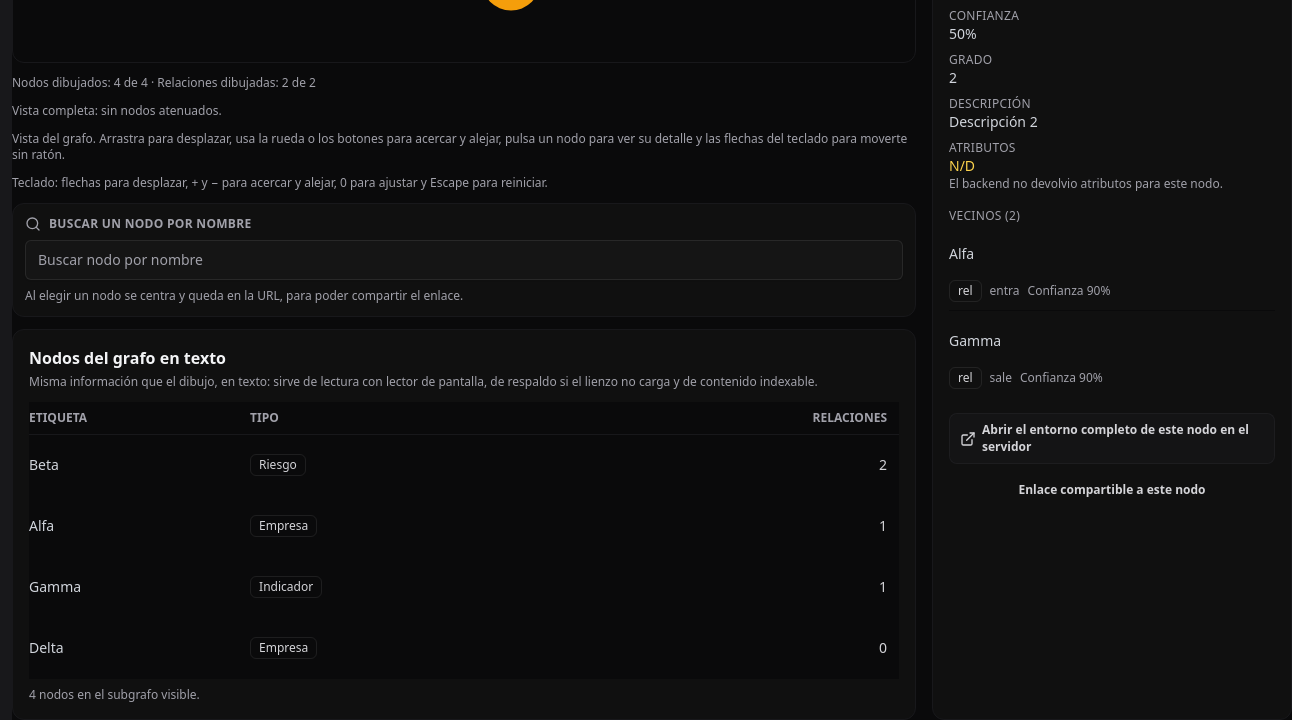
Test: KnowledgeGraphCanvas: exportar y copiar enlace › copiar enlace: escribe la URL absoluta del nodo y lo confirma
This screenshot has width=1292, height=720.
(page scrolled)
Click the button with test id "kg-copy-link": click(1112, 490) [949, 472, 1275, 508]
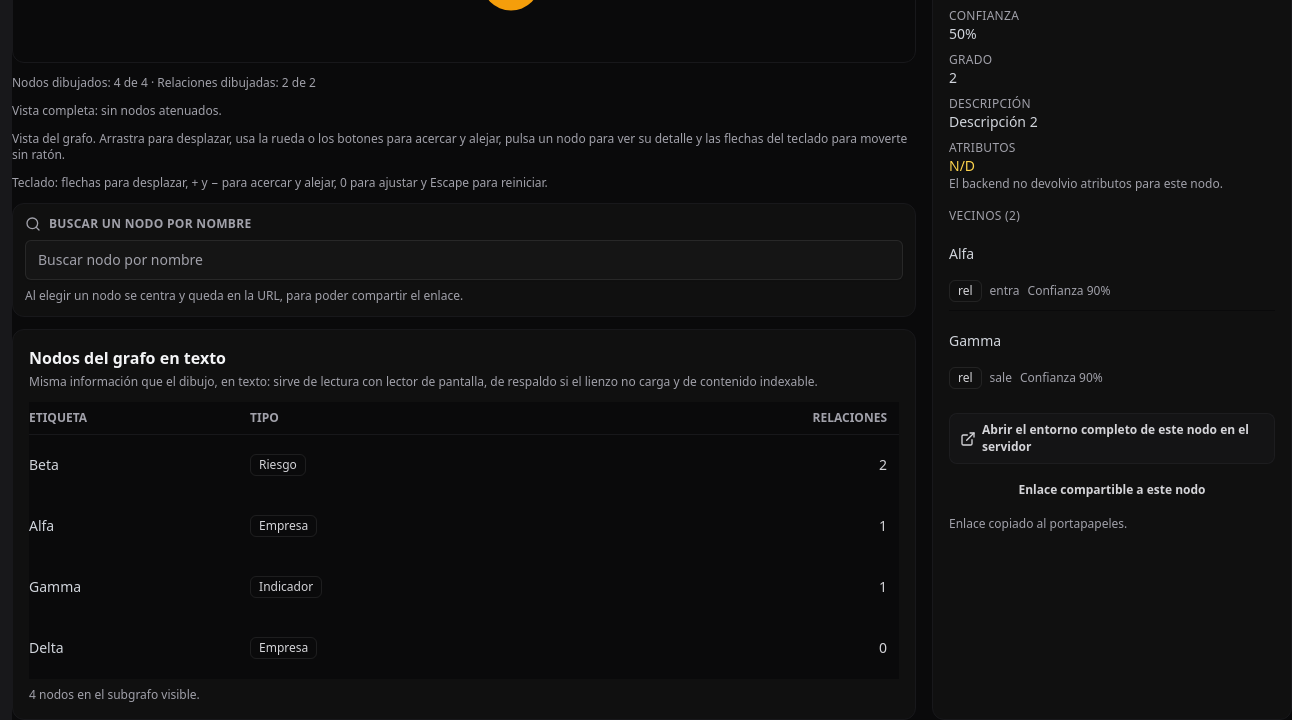
Result: the text "Enlace copiado al portapapeles." is shown at [949, 515, 1127, 532]
